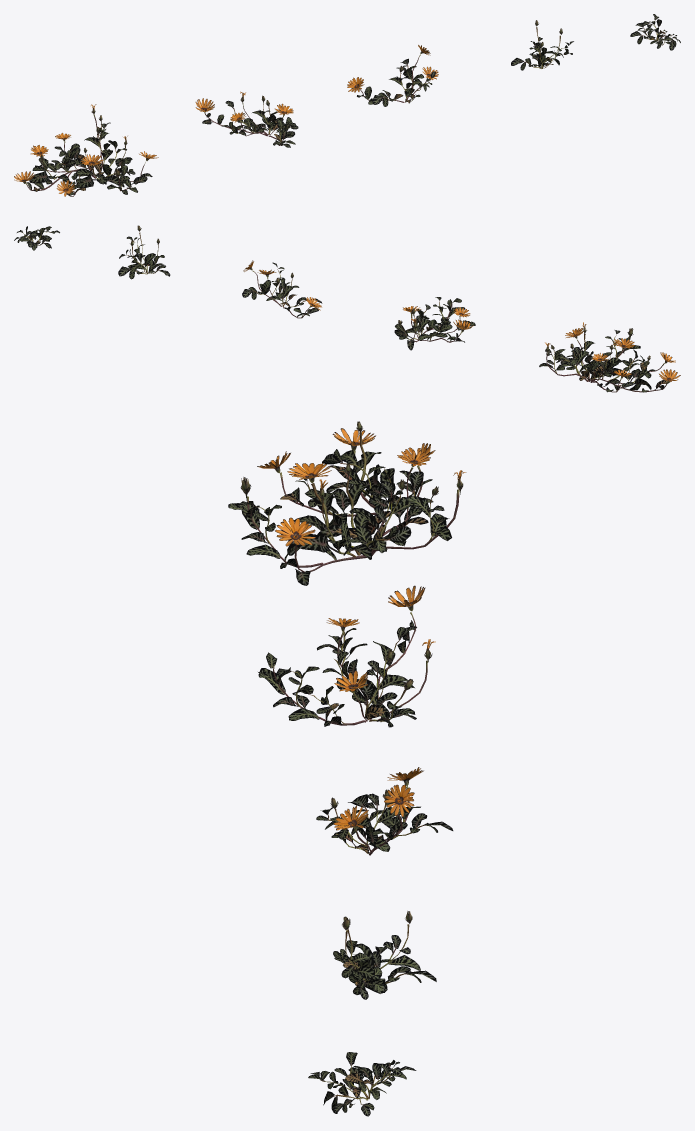
Rendered from ursinia.glb.
The picture shows the model from 3 angles, top to bottom: view 1: azimuth 30°, elevation 25°; view 2: azimuth 150°, elevation 25°; view 3: azimuth 270°, elevation 25°; orthographic projection. The views are drawn at different scales.
Parts seen in each view (by area): view 1: flower_ursinia_a_LOD0, flower_ursinia_b_LOD0, flower_ursinia_c_LOD0, flower_ursinia_d_LOD0, flower_ursinia_e_LOD0; view 2: flower_ursinia_a_LOD0, flower_ursinia_b_LOD0, flower_ursinia_c_LOD0, flower_ursinia_d_LOD0, flower_ursinia_e_LOD0; view 3: flower_ursinia_a_LOD0, flower_ursinia_b_LOD0, flower_ursinia_c_LOD0, flower_ursinia_d_LOD0, flower_ursinia_e_LOD0.
Boxes of the visible parts, left/top/right/bottom form: flower_ursinia_a_LOD0: left=14, top=104, right=158, bottom=196; flower_ursinia_b_LOD0: left=195, top=91, right=298, bottom=147; flower_ursinia_c_LOD0: left=347, top=45, right=438, bottom=106; flower_ursinia_d_LOD0: left=511, top=20, right=573, bottom=70; flower_ursinia_e_LOD0: left=630, top=14, right=680, bottom=50; flower_ursinia_a_LOD0: left=539, top=322, right=680, bottom=392; flower_ursinia_b_LOD0: left=394, top=297, right=475, bottom=350; flower_ursinia_c_LOD0: left=242, top=260, right=322, bottom=318; flower_ursinia_d_LOD0: left=118, top=225, right=170, bottom=279; flower_ursinia_e_LOD0: left=14, top=226, right=59, bottom=250; flower_ursinia_a_LOD0: left=228, top=421, right=466, bottom=585; flower_ursinia_b_LOD0: left=258, top=585, right=435, bottom=727; flower_ursinia_c_LOD0: left=316, top=767, right=453, bottom=855; flower_ursinia_d_LOD0: left=333, top=911, right=436, bottom=999; flower_ursinia_e_LOD0: left=308, top=1052, right=416, bottom=1116.
Bounding box in the file's own units: 2.19 × 0.1705 × 0.3422.
Materials: 1 (1 with a texture image).
